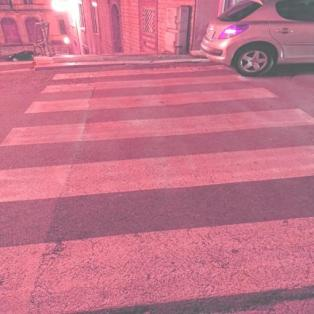Paso de Cebra: (2, 144, 313, 314), (19, 72, 287, 116)
